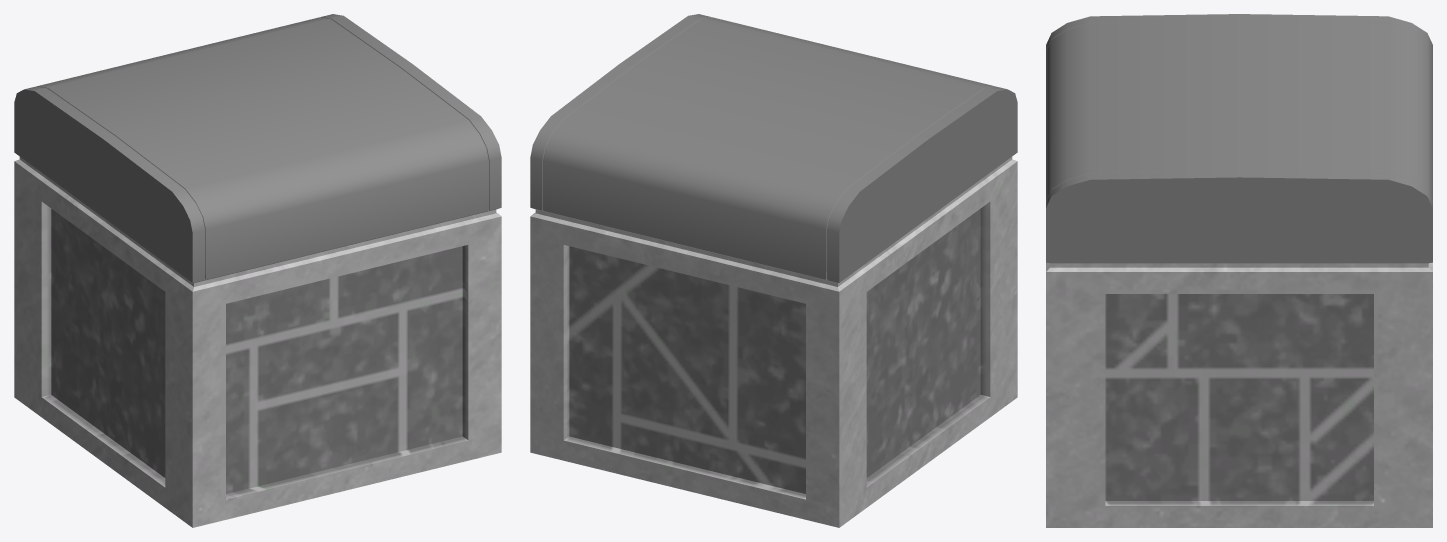
Rendered from Chair2.fbx.
The picture shows the model from 3 angles, left to right: view 1: azimuth 30°, elevation 25°; view 2: azimuth 150°, elevation 25°; view 3: azimuth 270°, elevation 25°; orthographic projection. The views are drawn at different scales.
Visible parts, largest first — view 1: SM_Chair_Cube; view 2: SM_Chair_Cube; view 3: SM_Chair_Cube.
Part boxes in pixels (x1,y1,x2,y2): SM_Chair_Cube: (14, 14, 501, 527); SM_Chair_Cube: (530, 14, 1017, 527); SM_Chair_Cube: (1046, 14, 1432, 527).
Size of the model in its own units: 64 by 64 by 64.
